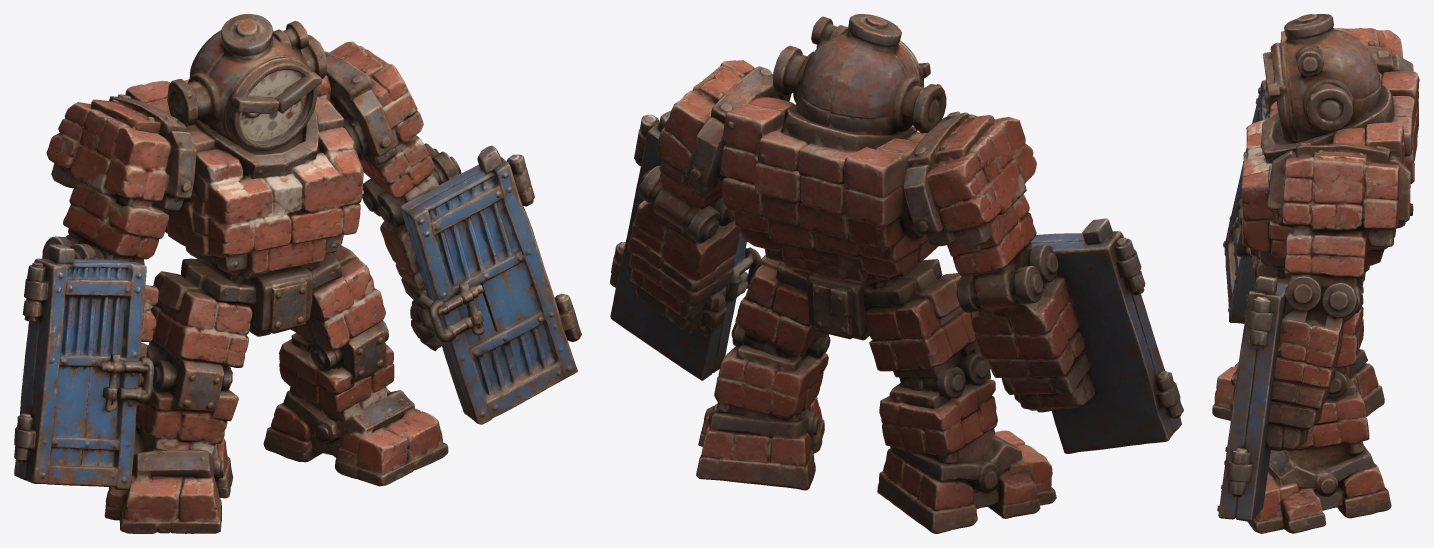
File: brute_tripo_h31_raw.glb
3 renders of one model, left to right at view 1: azimuth 30°, elevation 25°; view 2: azimuth 150°, elevation 25°; view 3: azimuth 270°, elevation 25°, orthographic. The views are drawn at different scales.
Parts seen in each view (by area): view 1: tripo_node_a2e5129e-4eae-411e-94fb-965f765fe0f6; view 2: tripo_node_a2e5129e-4eae-411e-94fb-965f765fe0f6; view 3: tripo_node_a2e5129e-4eae-411e-94fb-965f765fe0f6.
Part boxes in pixels (x1=…): tripo_node_a2e5129e-4eae-411e-94fb-965f765fe0f6: x1=14, y1=14, x2=581, y2=533; tripo_node_a2e5129e-4eae-411e-94fb-965f765fe0f6: x1=610, y1=14, x2=1183, y2=533; tripo_node_a2e5129e-4eae-411e-94fb-965f765fe0f6: x1=1212, y1=14, x2=1419, y2=533.
Size of the model in its own units: 1 by 0.7778 by 0.3321.
1 material, 1 textured.
